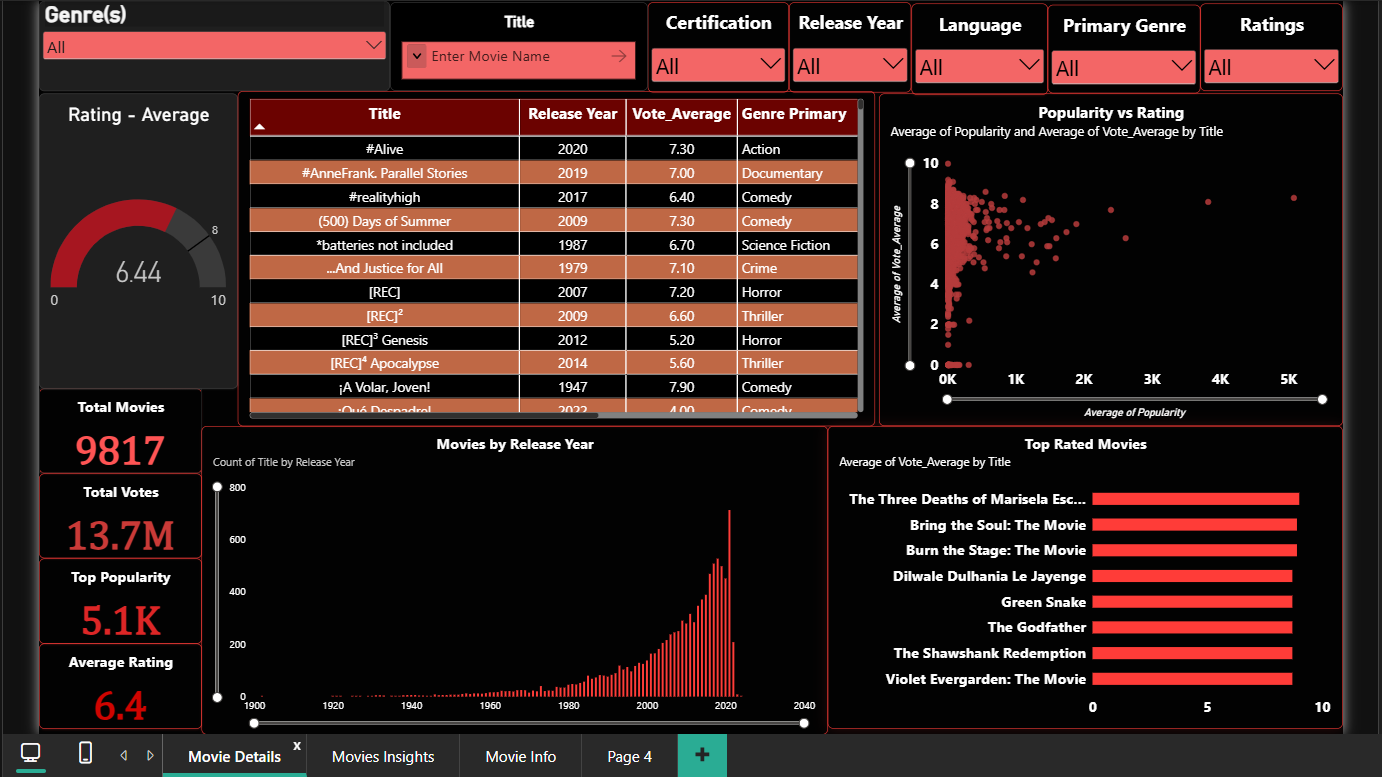

Layout of this report page (visuals, bound fields, positions):
{"tool":"powerbi","page":{"name":"Movie Details","canvas":[1920,1080],"ordinal":0},"visuals":[{"type":"card","title":"Total Movies","fields":{"Values":["_Measures.Total Movies"]},"box":[0,570.6,240,125],"z":0},{"type":"card","title":"Total Votes","fields":{"Values":["_Measures.Total Votes"]},"box":[0,695.7,240,125],"z":1000},{"type":"card","title":"Top Popularity","fields":{"Values":["_Measures.Top Popularity"]},"box":[0,820.9,239.8,125.3],"z":2000},{"type":"card","title":"Average Rating","fields":{"Values":["_Measures.Average Rating"]},"box":[0,946,239.8,125.3],"z":3000},{"type":"slicer","title":"Certification","fields":{"Values":["mymoviedb.Age_Rating"]},"box":[896.3,1.8,208,132.5],"z":4000},{"type":"slicer","title":"Release Year","fields":{"Values":["mymoviedb.Release Year"]},"box":[1104.3,1.8,180.4,132.5],"z":5000},{"type":"slicer","title":"Language","fields":{"Values":["mymoviedb.Original_Language"]},"box":[1284.7,3.7,200.6,134.4],"z":6000},{"type":"slicer","title":"Ratings","fields":{"Values":["mymoviedb.Rating_Category"]},"box":[1709.8,3.7,209.8,128.8],"z":7000},{"type":"slicer","title":"Primary Genre","fields":{"Values":["mymoviedb.Genre Primary"]},"box":[1485.3,5.5,224.5,130.7],"z":8000},{"type":"scatterChart","title":"Popularity vs Rating","fields":{"Category":["mymoviedb.Title"],"X":["Avg(mymoviedb.Popularity)"],"Y":["Avg(mymoviedb.Vote_Average)"]},"box":[1236.8,136.2,682.8,489.6],"z":9000},{"type":"barChart","title":"Top Rated Movies","fields":{"Category":["mymoviedb.Title"],"Y":["Avg(mymoviedb.Vote_Average)"]},"box":[1161.4,625.8,758.3,445.4],"z":10000},{"type":"slicer","fields":{"Values":["mymoviedb.Genre"]},"box":[0,0,517.2,132.5],"z":11000},{"type":"gauge","fields":{"MaxValue":["_Measures.Gauge Maximum"],"MinValue":["_Measures.Gauge Minimum"],"TargetValue":["_Measures.Gauge Target"],"Y":["_Measures.Average Movie Rating"]},"box":[0,136.2,292.6,434.4],"z":12000},{"type":"tableEx","fields":{"Values":["mymoviedb.Title","mymoviedb.Release Year","mymoviedb.Vote_Average","mymoviedb.Genre Primary"]},"box":[292.6,132.5,938.7,493.3],"z":13000},{"type":"columnChart","title":"Movies by Release Year","fields":{"Category":["mymoviedb.Release Year"],"Y":["Count(mymoviedb.Title)"]},"box":[239.3,625.8,922.1,454.6],"z":14000},{"type":"textSlicer","fields":{"Values":["mymoviedb.Title"]},"box":[517.2,1.8,379.1,130.7],"z":15000}]}

Visuals, with their boxes on the page's 1920x1080 design canvas (x1, y1, x2, y2). These are canvas units, not pixel positions in the 1382x777 screenshot, which may show the page scaled, cropped or inside an application window:
"Total Movies" card: 0:571:240:696
"Total Votes" card: 0:696:240:821
"Top Popularity" card: 0:821:240:946
"Average Rating" card: 0:946:240:1071
"Certification" slicer: 896:2:1104:134
"Release Year" slicer: 1104:2:1285:134
"Language" slicer: 1285:4:1485:138
"Ratings" slicer: 1710:4:1920:132
"Primary Genre" slicer: 1485:6:1710:136
"Popularity vs Rating" scatterChart: 1237:136:1920:626
"Top Rated Movies" barChart: 1161:626:1920:1071
slicer - mymoviedb.Genre: 0:0:517:132
gauge - _Measures.Gauge Maximum x _Measures.Gauge Minimum: 0:136:293:571
tableEx - mymoviedb.Title x mymoviedb.Release Year: 293:132:1231:626
"Movies by Release Year" columnChart: 239:626:1161:1080
textSlicer - mymoviedb.Title: 517:2:896:132
